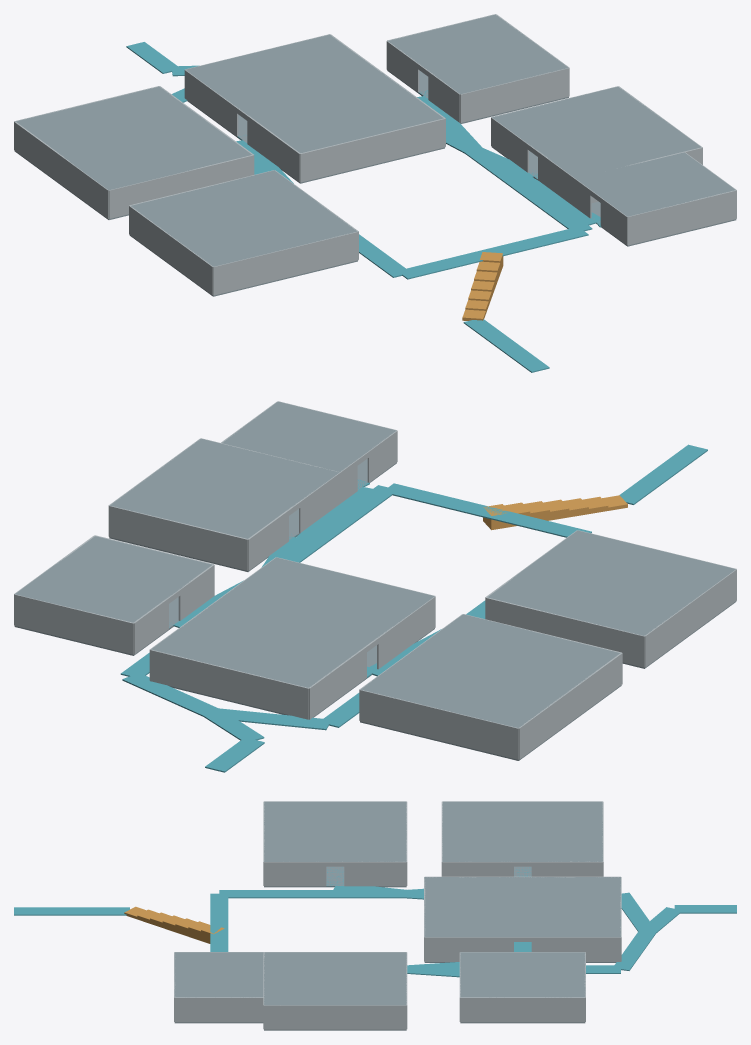
File: rough-shell.glb
3 renders of one model, top to bottom at view 1: azimuth 30°, elevation 25°; view 2: azimuth 150°, elevation 25°; view 3: azimuth 270°, elevation 25°, orthographic. The views are drawn at different scales.
Parts seen in each view (by area): view 1: Ceiling cap warehouse, Ceiling cap chapel, Ceiling cap house-a, Ceiling cap house-b, Ceiling cap shack, Ceiling cap pump, Wall warehouse S, Wall house-a S, Wall pump S, Wall shack S, Wall chapel S, Wall chapel W (+17 smaller); view 2: Ceiling cap warehouse, Ceiling cap chapel, Ceiling cap house-a, Ceiling cap house-b, Ceiling cap shack, Ceiling cap pump, Wall warehouse N, Wall chapel N, Wall house-b N, Wall shack N, Wall house-a N, Wall chapel W (+19 smaller); view 3: Ceiling cap warehouse, Ceiling cap chapel, Ceiling cap house-a, Ceiling cap house-b, Ceiling cap shack, Ceiling cap pump, Wall house-b E, Wall shack E, Wall pump E, Wall warehouse E.001, Wall warehouse E, L03 support 1 (+14 smaller).
Part boxes in pixels (left/top/right/bottom): Ceiling cap warehouse: left=185, top=34, right=443, bottom=153; Ceiling cap chapel: left=15, top=86, right=251, bottom=190; Ceiling cap house-a: left=131, top=170, right=357, bottom=266; Ceiling cap house-b: left=492, top=86, right=700, bottom=178; Ceiling cap shack: left=388, top=14, right=568, bottom=94; Ceiling cap pump: left=575, top=152, right=735, bottom=216; Wall warehouse S: left=300, top=118, right=445, bottom=182; Wall house-a S: left=213, top=231, right=358, bottom=295; Wall pump S: left=627, top=190, right=736, bottom=245; Wall shack S: left=460, top=67, right=569, bottom=122; Wall chapel S: left=108, top=155, right=253, bottom=218; Wall chapel W: left=14, top=121, right=108, bottom=218; Ceiling cap warehouse: left=151, top=557, right=434, bottom=687; Ceiling cap chapel: left=360, top=614, right=620, bottom=727; Ceiling cap house-a: left=487, top=530, right=735, bottom=635; Ceiling cap house-b: left=110, top=438, right=339, bottom=538; Ceiling cap shack: left=15, top=536, right=211, bottom=622; Ceiling cap pump: left=222, top=401, right=396, bottom=471; Wall warehouse N: left=150, top=649, right=308, bottom=719; Wall chapel N: left=359, top=689, right=518, bottom=759; Wall house-b N: left=109, top=505, right=248, bottom=570; Wall shack N: left=14, top=594, right=133, bottom=654; Wall house-a N: left=485, top=597, right=644, bottom=667; Wall chapel W: left=518, top=653, right=622, bottom=759; Ceiling cap warehouse: left=424, top=877, right=620, bottom=937; Ceiling cap chapel: left=442, top=801, right=602, bottom=861; Ceiling cap house-a: left=264, top=801, right=406, bottom=861; Ceiling cap house-b: left=264, top=952, right=406, bottom=1005; Ceiling cap shack: left=460, top=952, right=585, bottom=997; Ceiling cap pump: left=174, top=952, right=263, bottom=997; Wall house-b E: left=264, top=1005, right=406, bottom=1029; Wall shack E: left=460, top=997, right=585, bottom=1022; Wall pump E: left=174, top=997, right=263, bottom=1022; Wall warehouse E.001: left=424, top=937, right=513, bottom=961; Wall warehouse E: left=531, top=937, right=620, bottom=961; L03 support 1: left=219, top=890, right=406, bottom=898.
Size of the model in its own units: 54.16 by 4.36 by 81.
